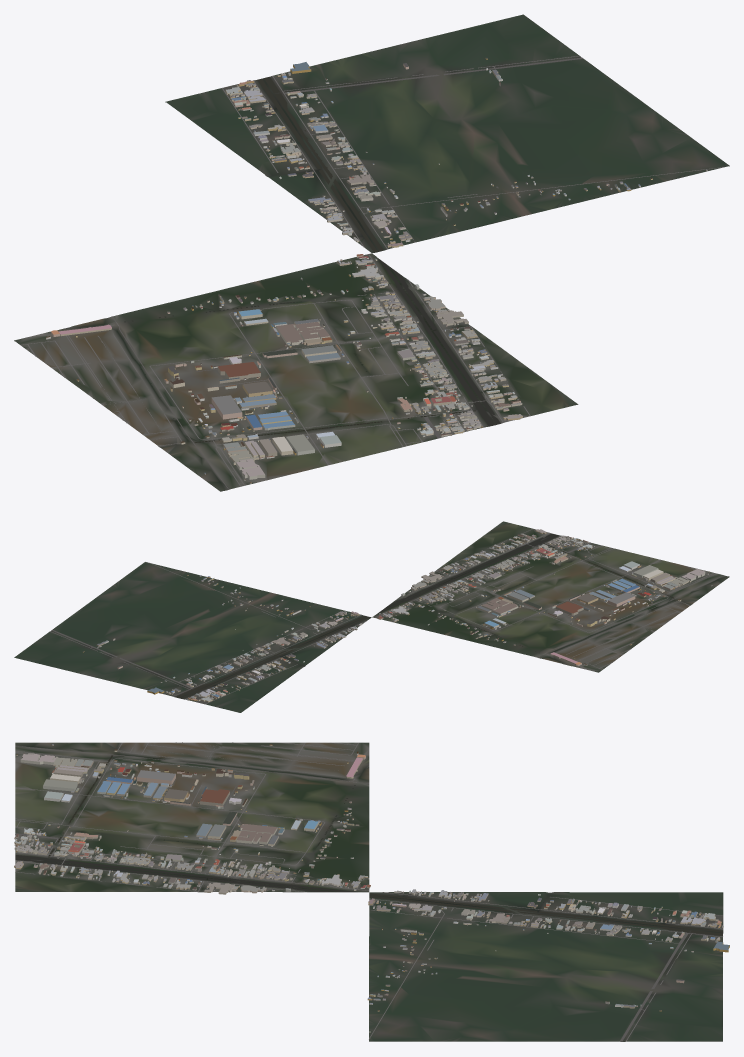
3 views of the same model, one above another, from view 1: azimuth 30°, elevation 25°; view 2: azimuth 150°, elevation 25°; view 3: azimuth 270°, elevation 25° (orthographic). The views are drawn at different scales.
Parts seen in each view (by area): view 1: ground, buildings, roads, water; view 2: ground, buildings, roads, water; view 3: ground, buildings, roads, water.
Boxes of the visible parts, <box> form: ground: <box>14,14,729,491</box>; buildings: <box>46,57,707,483</box>; roads: <box>20,55,724,489</box>; water: <box>124,65,505,442</box>; ground: <box>14,521,729,712</box>; buildings: <box>82,529,712,702</box>; roads: <box>50,528,724,704</box>; water: <box>87,533,674,698</box>; ground: <box>15,742,723,1041</box>; buildings: <box>14,744,729,1032</box>; roads: <box>15,742,722,1041</box>; water: <box>15,755,722,1014</box>.
Bounding box in the file's own units: 2804 × 23 × 2833.
